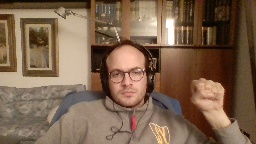Pugno: (188, 76, 226, 112)
